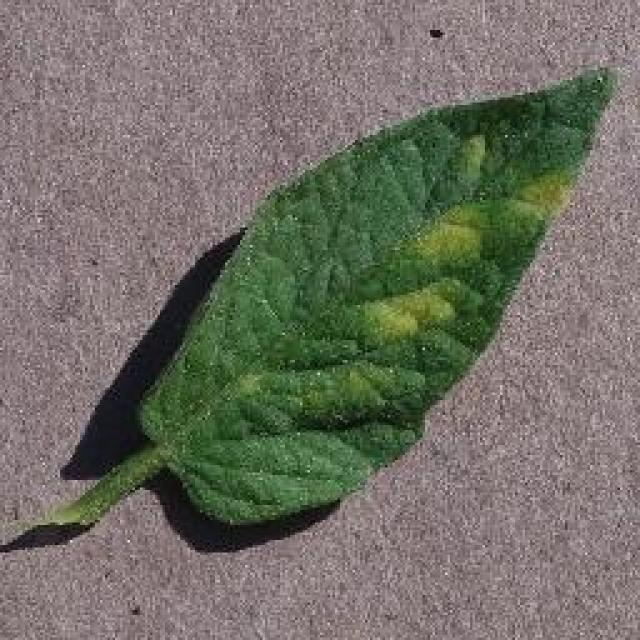Tomato mold leaf: (135, 64, 613, 528)
